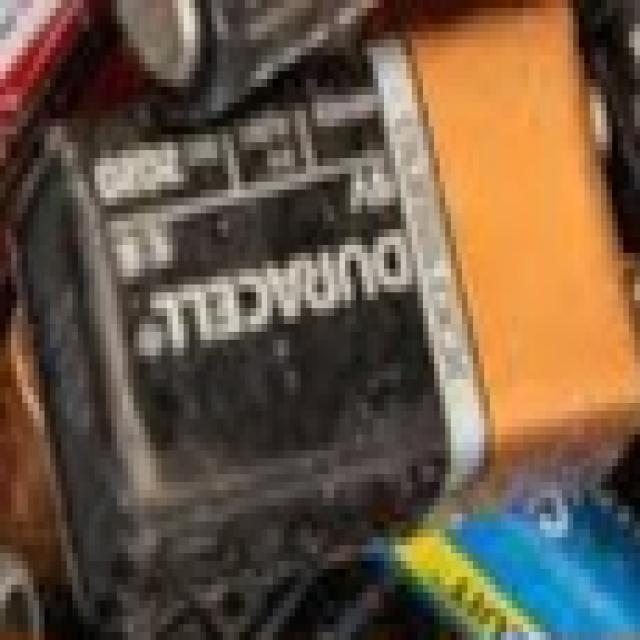battery: (27, 0, 639, 619)
